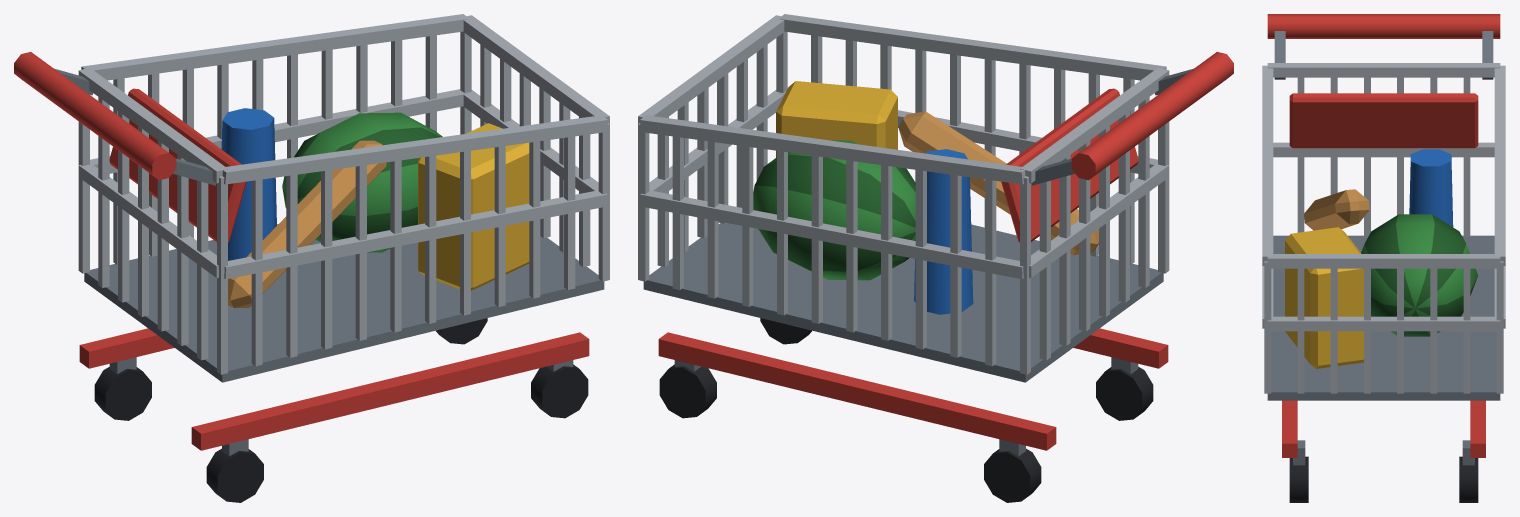
The model's file is market-deco2.glb.
The picture shows the model from 3 angles, left to right: view 1: azimuth 30°, elevation 25°; view 2: azimuth 150°, elevation 25°; view 3: azimuth 270°, elevation 25°; orthographic projection. The views are drawn at different scales.
Parts seen in each view (by area): view 1: market-deco2; view 2: market-deco2; view 3: market-deco2.
Boxes of the visible parts, x1,y1,x2,y2 form: market-deco2: (14,14,609,502); market-deco2: (638,14,1233,502); market-deco2: (1262,14,1505,502).
Size of the model in its own units: 3.11 by 2.44 by 1.71.
